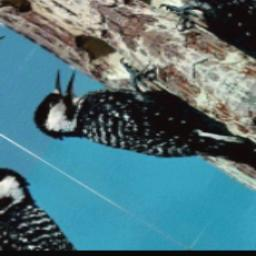Woodpecker: (15, 23, 256, 235)
